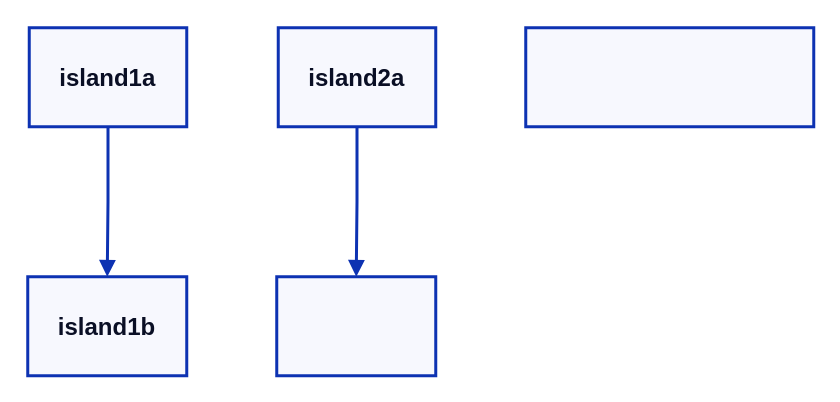
Some shapes in this 840 by 402 pixel diagram are drawn without their labels. The box of each missing label's shape, as (x1, y1, x2, y2) in pixels:
island2b: (274, 274, 436, 376)
No connections at all: (524, 26, 814, 128)
